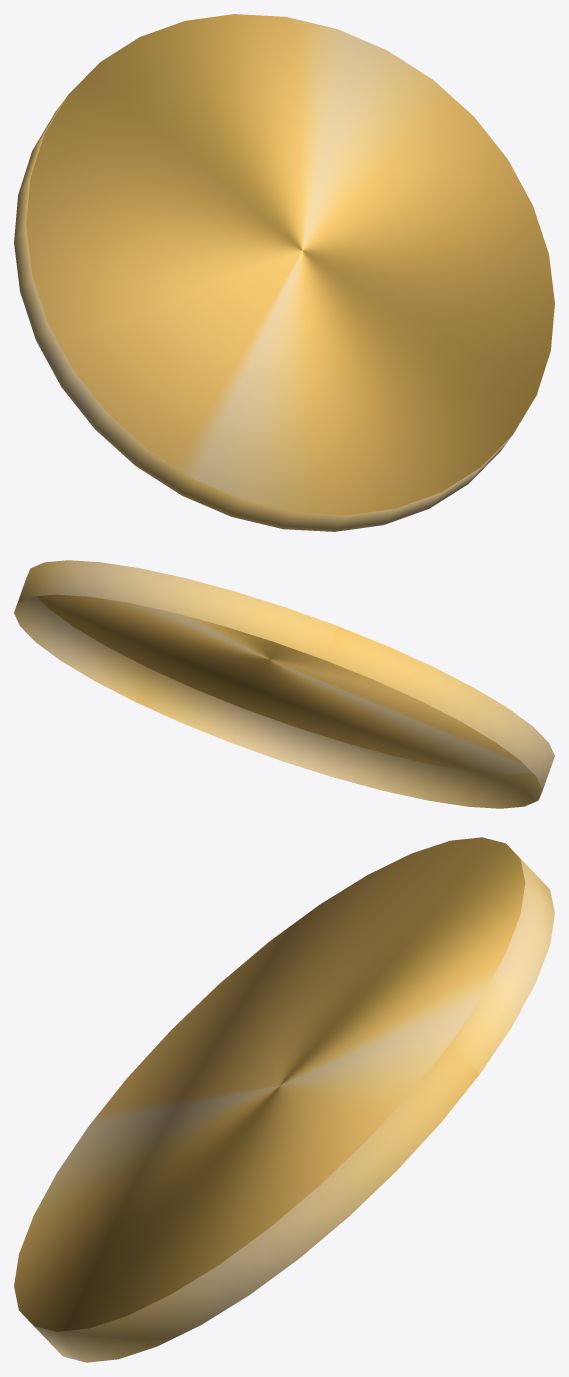
Rendered from Button.fbx.
The picture shows the model from 3 angles, top to bottom: view 1: azimuth 30°, elevation 25°; view 2: azimuth 150°, elevation 25°; view 3: azimuth 270°, elevation 25°; orthographic projection. The views are drawn at different scales.
Parts seen in each view (by area): view 1: Cylinder; view 2: Cylinder; view 3: Cylinder.
Part boxes in pixels (x1,y1,x2,y2): Cylinder: [14, 14, 554, 531]; Cylinder: [14, 560, 554, 808]; Cylinder: [14, 837, 554, 1362].
Size of the model in its own units: 36.59 by 25.86 by 29.2.
